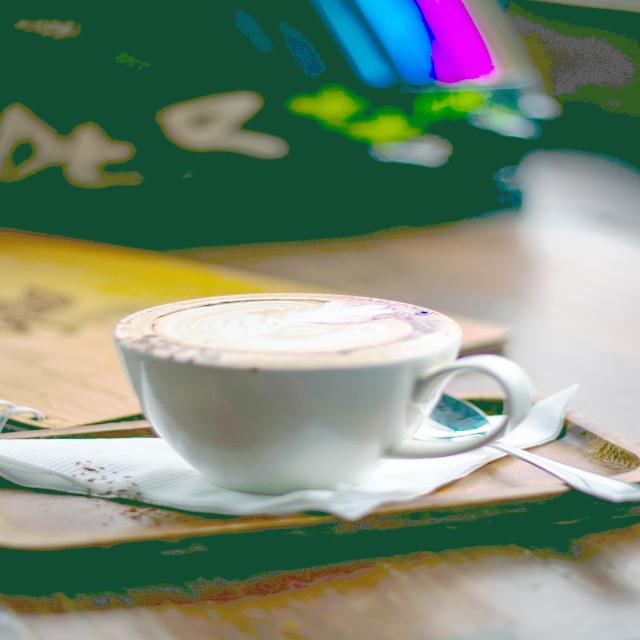drink: (115, 294, 536, 493)
